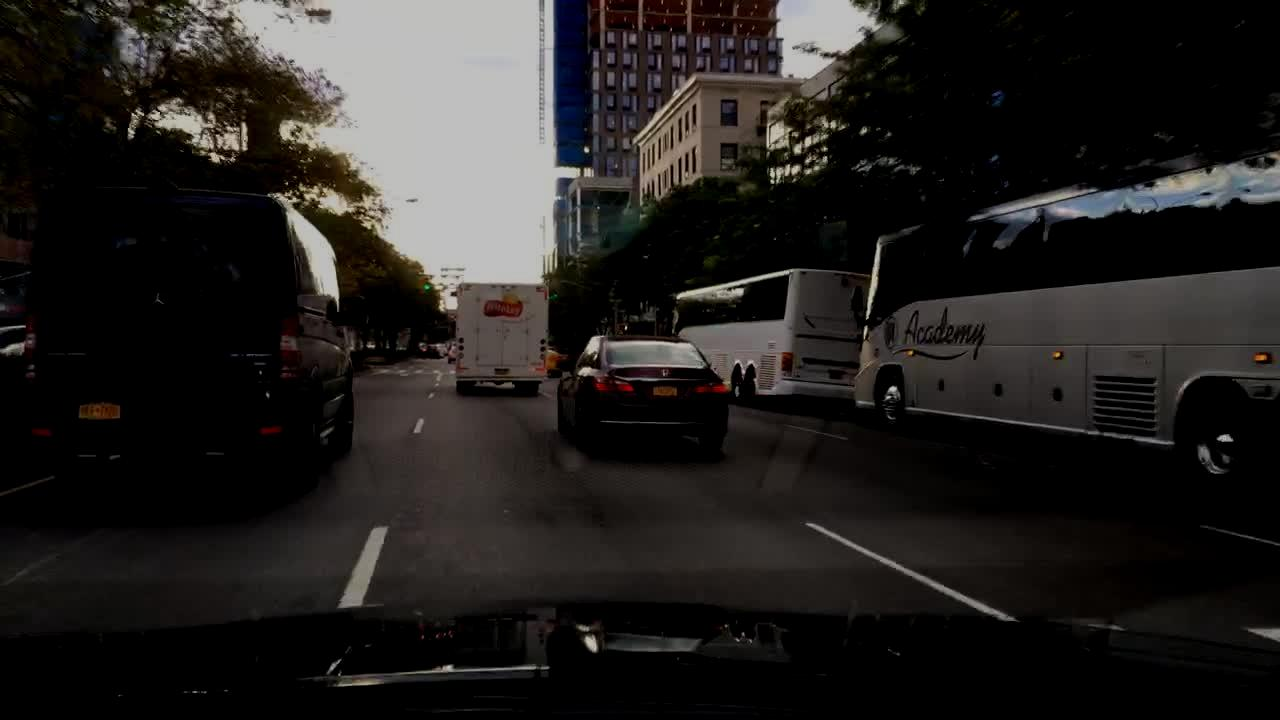Honda: (658, 367, 672, 380)
Mercedes: (145, 286, 173, 314)
